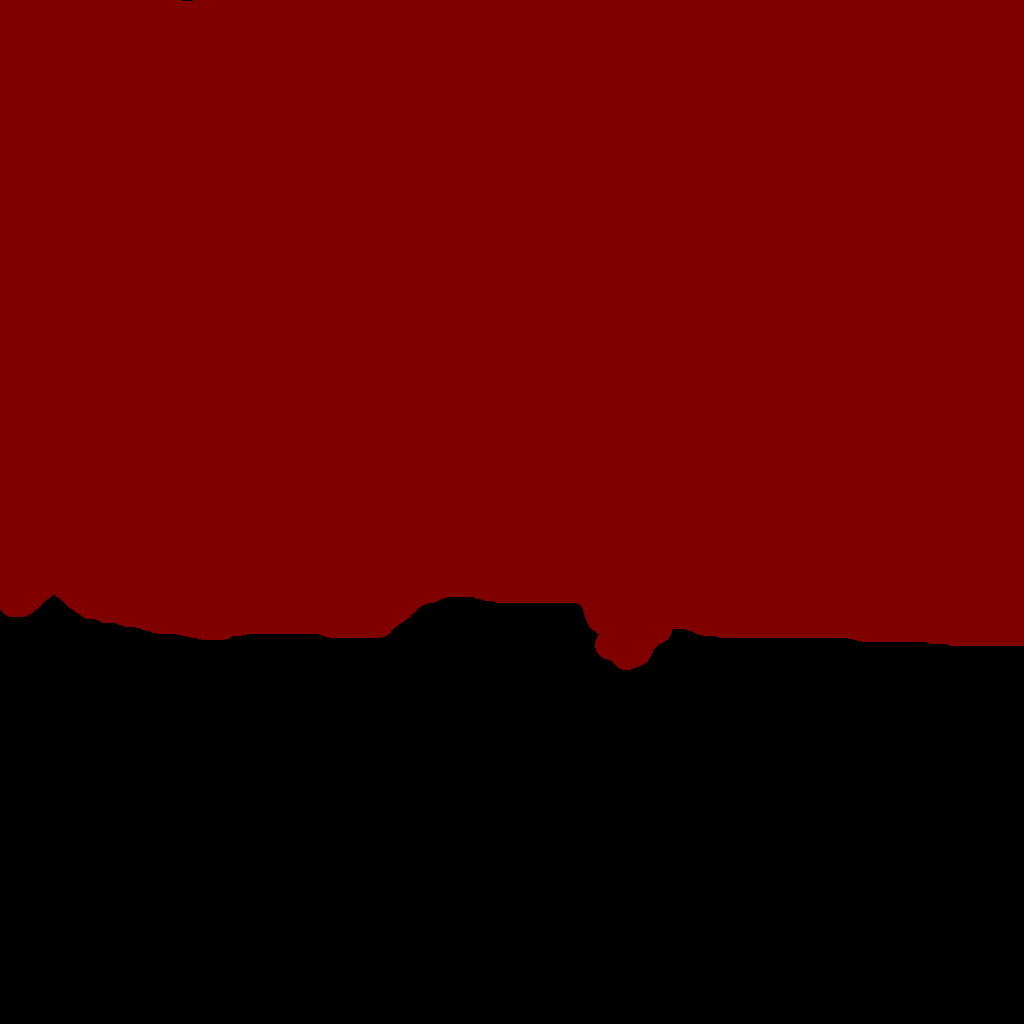Sky: (1, 1, 1023, 669)
